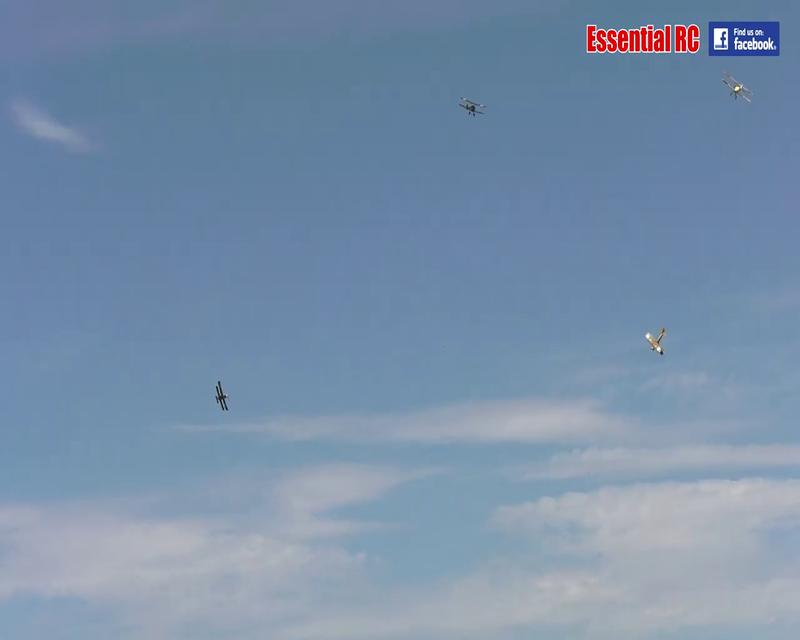UAV: (720, 72, 754, 103), (644, 324, 667, 357), (458, 96, 486, 118), (214, 378, 228, 410)
